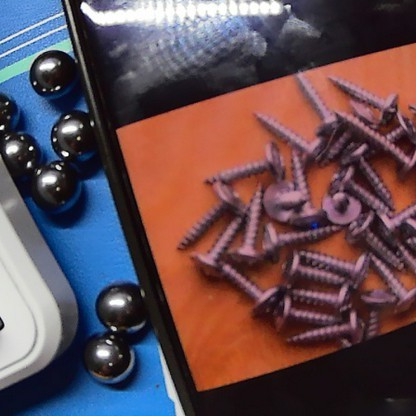ironball: (81, 331, 147, 380), (26, 49, 88, 99), (91, 277, 145, 328), (44, 107, 95, 159), (33, 164, 85, 210), (0, 81, 35, 130), (0, 132, 37, 169)
